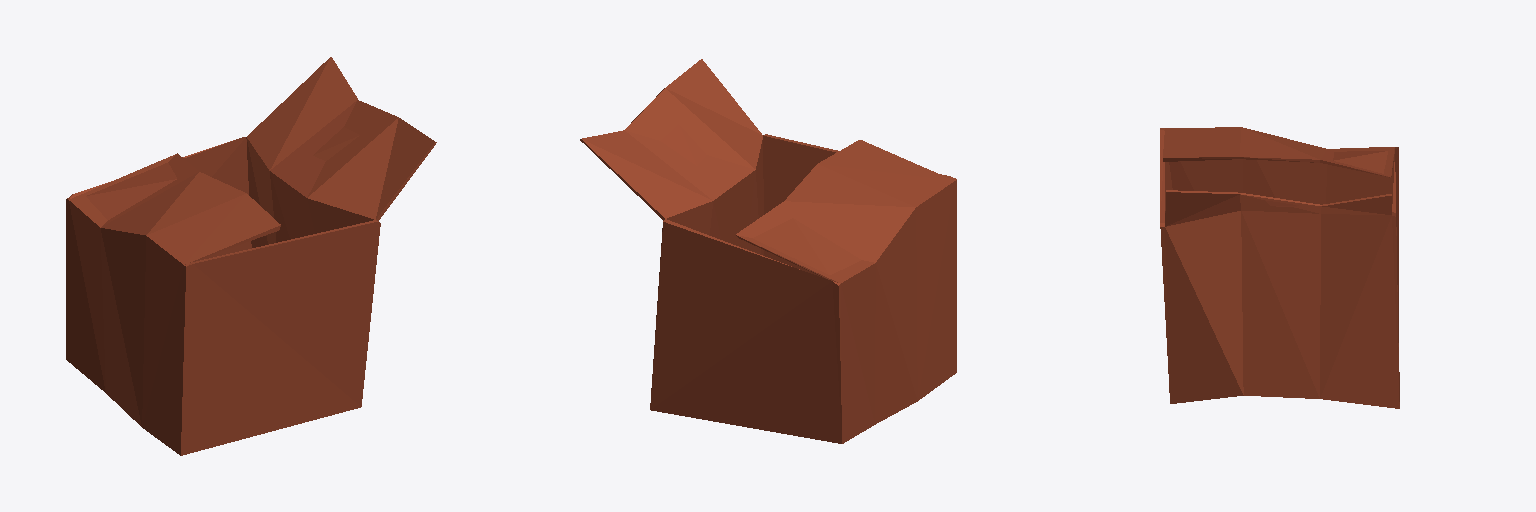
The model's file is box_open.obj.
3 views of the same model, side by side, from view 1: azimuth 30°, elevation 25°; view 2: azimuth 150°, elevation 25°; view 3: azimuth 270°, elevation 25° (orthographic).
Parts seen in each view (by area): view 1: Cardboard_02_Mesh.009; view 2: Cardboard_02_Mesh.009; view 3: Cardboard_02_Mesh.009.
Boxes of the visible parts, x1,y1,x2,y2 form: Cardboard_02_Mesh.009: [66, 57, 436, 455]; Cardboard_02_Mesh.009: [580, 59, 956, 443]; Cardboard_02_Mesh.009: [1160, 127, 1399, 408].
Size of the model in its own units: 0.4087 by 0.3731 by 0.32.